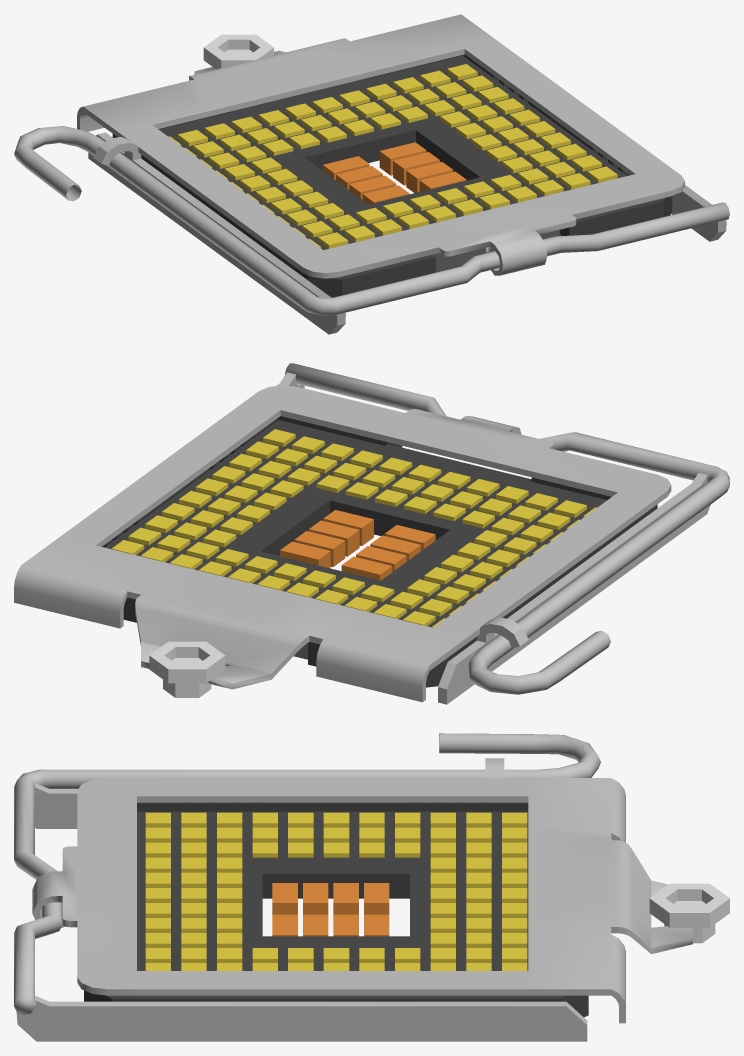
The model's file is Procecor.fbx.
The picture shows the model from 3 angles, top to bottom: view 1: azimuth 30°, elevation 25°; view 2: azimuth 150°, elevation 25°; view 3: azimuth 270°, elevation 25°; orthographic projection. The views are drawn at different scales.
Visible parts, largest first — view 1: Плоскость.004, Плоскость.006, Плоскость, Цилиндр, Плоскость.001, Плоскость.005, Плоскость.008, Плоскость.007, Цилиндр.001; view 2: Плоскость.004, Плоскость.006, Плоскость, Цилиндр, Плоскость.005, Плоскость.001, Цилиндр.001, Плоскость.008, Плоскость.007; view 3: Плоскость.004, Плоскость.006, Плоскость.005, Плоскость, Цилиндр, Плоскость.001, Цилиндр.001, Плоскость.007, Плоскость.008.
Boxes of the visible parts, box(x1,y1,x2,y2) form: Плоскость.004: box(77, 14, 684, 278); Плоскость.006: box(169, 64, 617, 248); Плоскость: box(159, 56, 626, 249); Цилиндр: box(14, 126, 729, 315); Плоскость.001: box(112, 54, 672, 297); Плоскость.005: box(88, 132, 726, 334); Плоскость.008: box(379, 142, 466, 193); Плоскость.007: box(322, 156, 409, 204); Цилиндр.001: box(203, 34, 273, 69); Плоскость.004: box(14, 385, 671, 702); Плоскость.006: box(111, 429, 596, 627); Плоскость: box(105, 420, 606, 627); Цилиндр: box(285, 363, 729, 694); Плоскость.005: box(276, 372, 710, 704); Плоскость.001: box(102, 416, 657, 687); Цилиндр.001: box(149, 641, 225, 697); Плоскость.008: box(280, 510, 373, 568); Плоскость.007: box(341, 525, 435, 580); Плоскость.004: box(32, 778, 692, 1023); Плоскость.006: box(145, 812, 527, 970); Плоскость.005: box(16, 758, 587, 1041); Плоскость: box(137, 811, 528, 970); Цилиндр: box(14, 733, 600, 1015); Плоскость.001: box(84, 802, 588, 1017); Цилиндр.001: box(649, 883, 729, 943); Плоскость.007: box(272, 883, 389, 914); Плоскость.008: box(272, 914, 389, 936).
Size of the model in its own units: 64.14 by 6.46 by 72.65.
